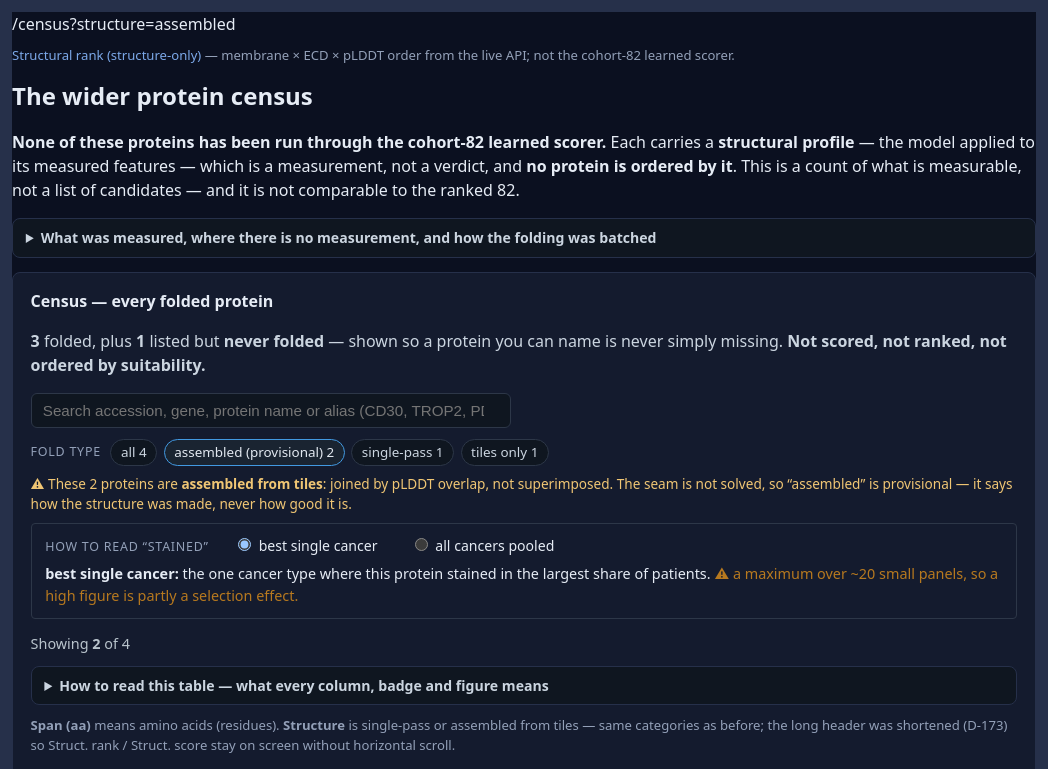
Test: D-135 — pressing a chip writes the address › replaces one kind with the next rather than appending
Click the button "tiles only 1".
click(505, 453)  # box x1=460 y1=439 x2=549 y2=466
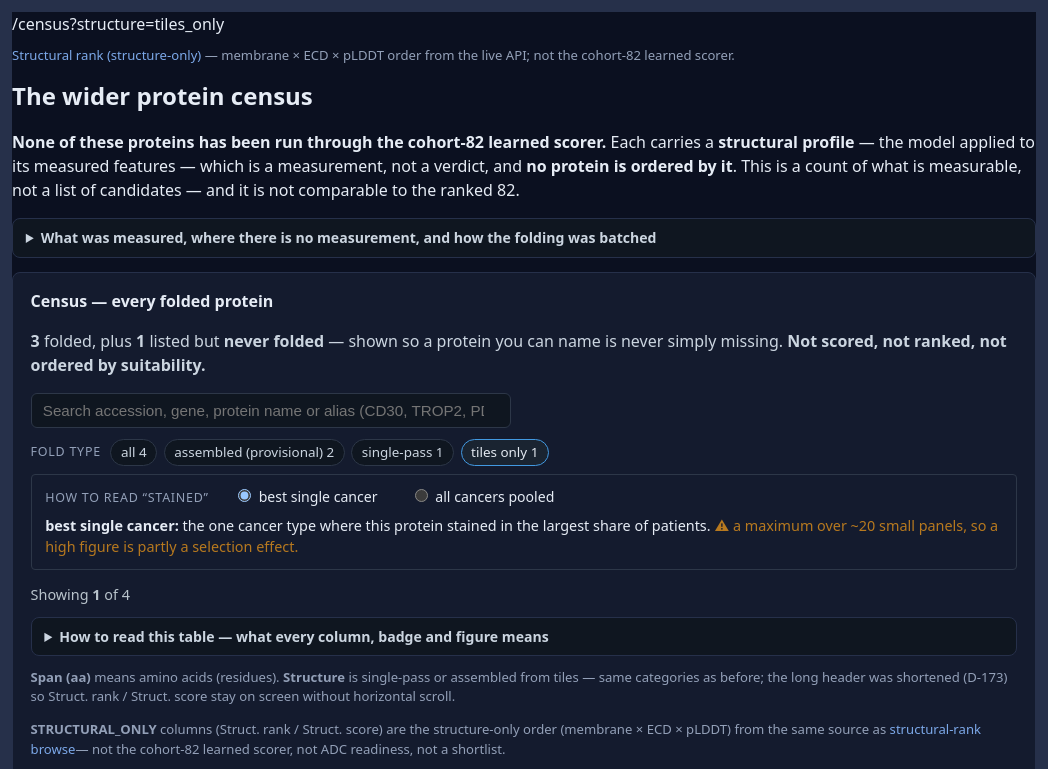
Expected: the text with test id "address" reads "/census?structure=tiles_only", x1=12 y1=13 x2=224 y2=35
